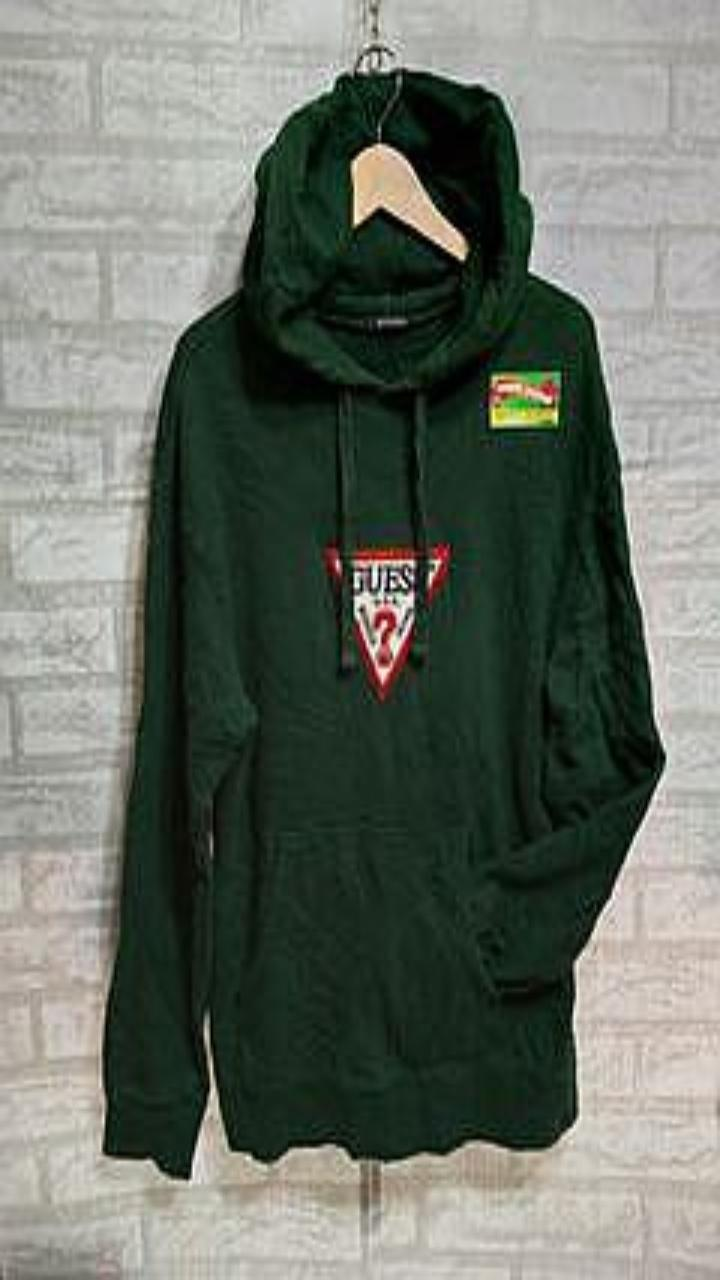Hoodie: (103, 69, 664, 1178)
